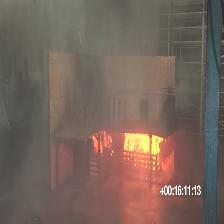fire: (122, 133, 165, 161)
smoke: (11, 5, 164, 116), (16, 135, 55, 203)
